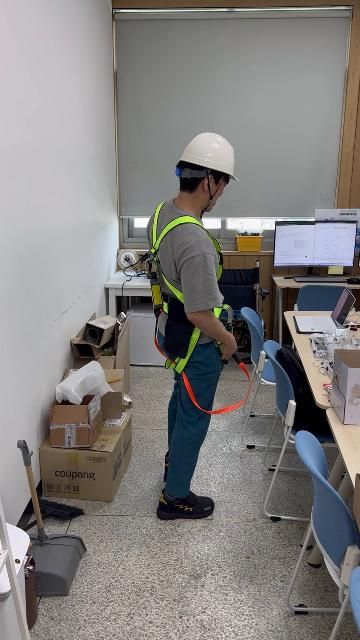helmet_worn: (176, 131, 241, 182)
shoe_worn: (157, 488, 214, 519), (163, 450, 170, 483)
vest_worn: (144, 206, 252, 403)
